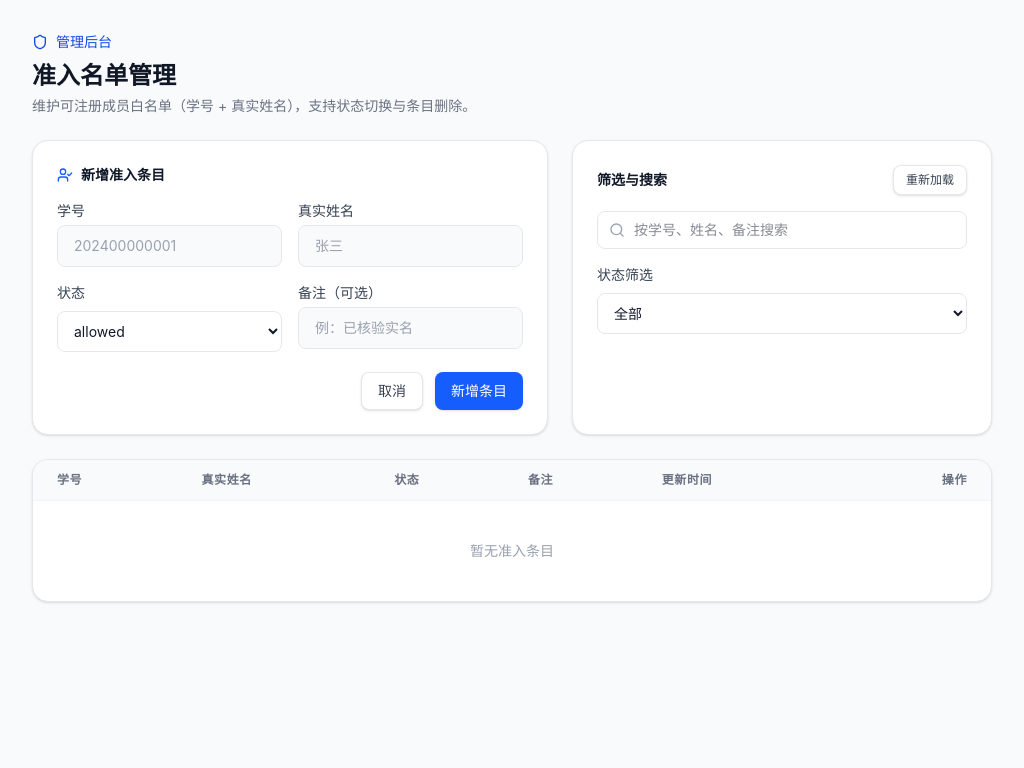
Test: AdminMemberEligibilityPage › creates a new entry from the admin form
The width and height of the screenshot is (1024, 768).
Type "202400000009" into the field labelled "学号" at (170, 246), box [57,225,282,267]
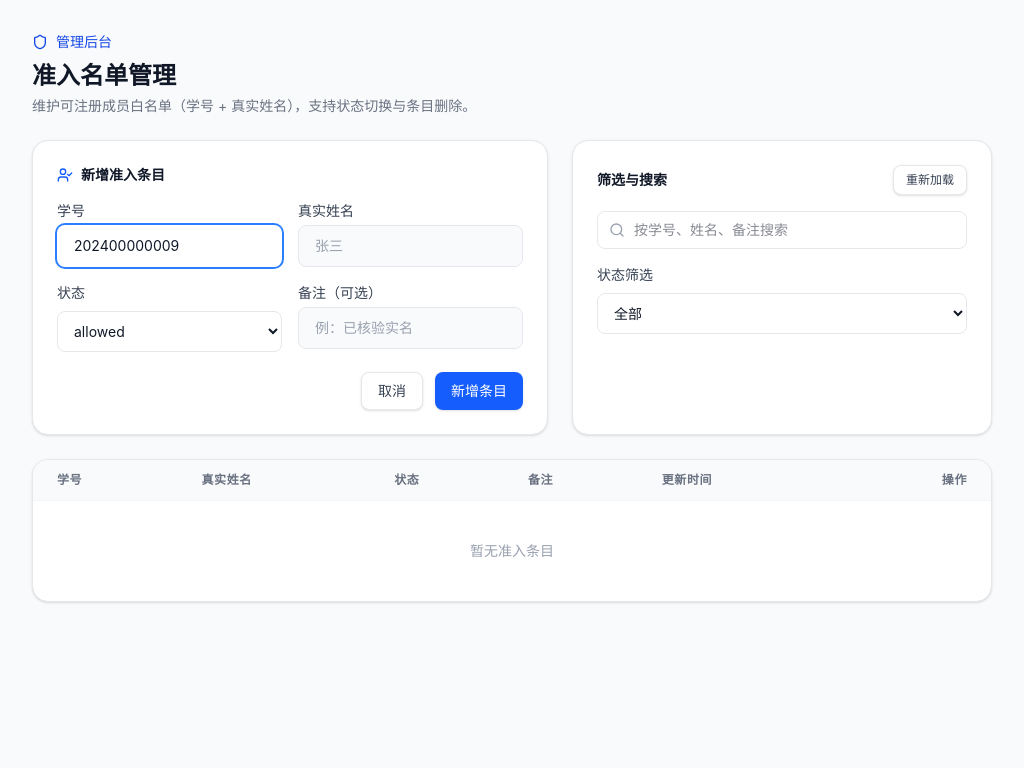
Type "Carol" into the field labelled "真实姓名" at (410, 246), box [298,225,523,267]
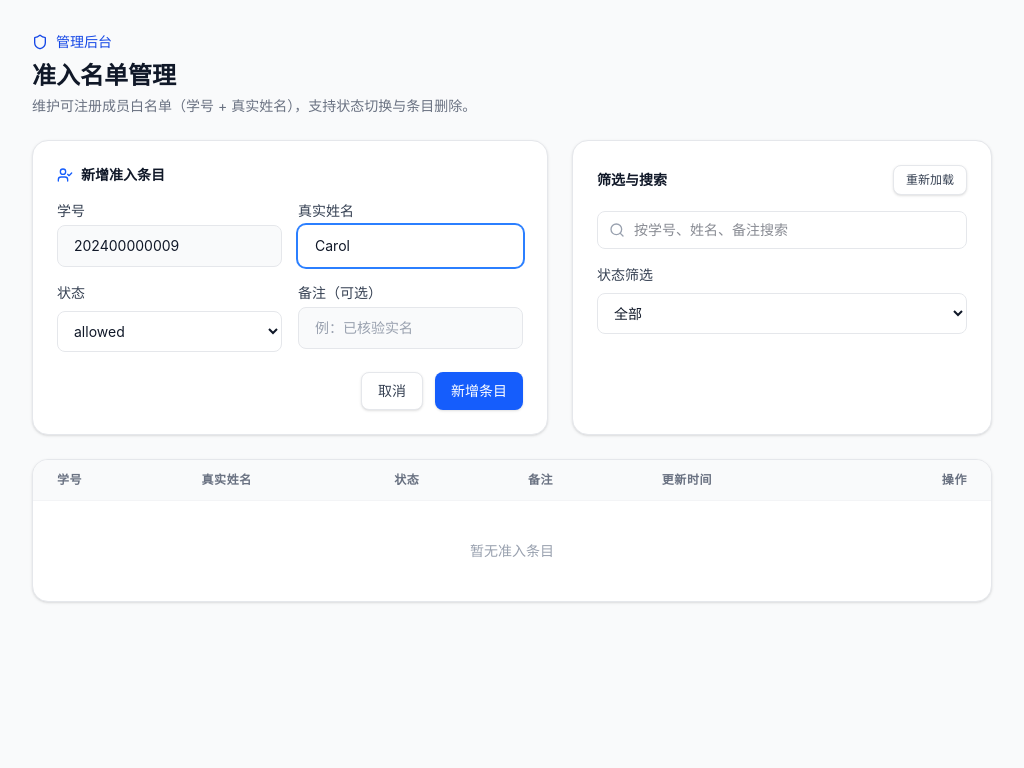
Type "new" into the field labelled "备注（可选）" at (410, 328), box [298,307,523,349]
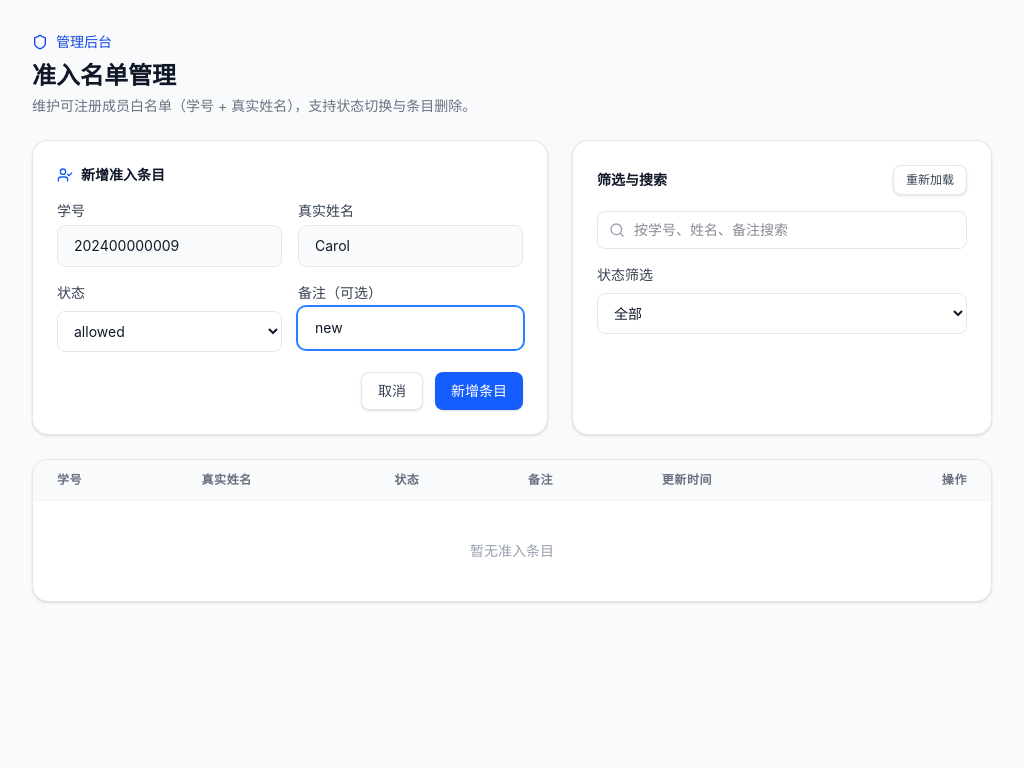
Click the button "新增条目" at (479, 391), box [435,372,523,410]
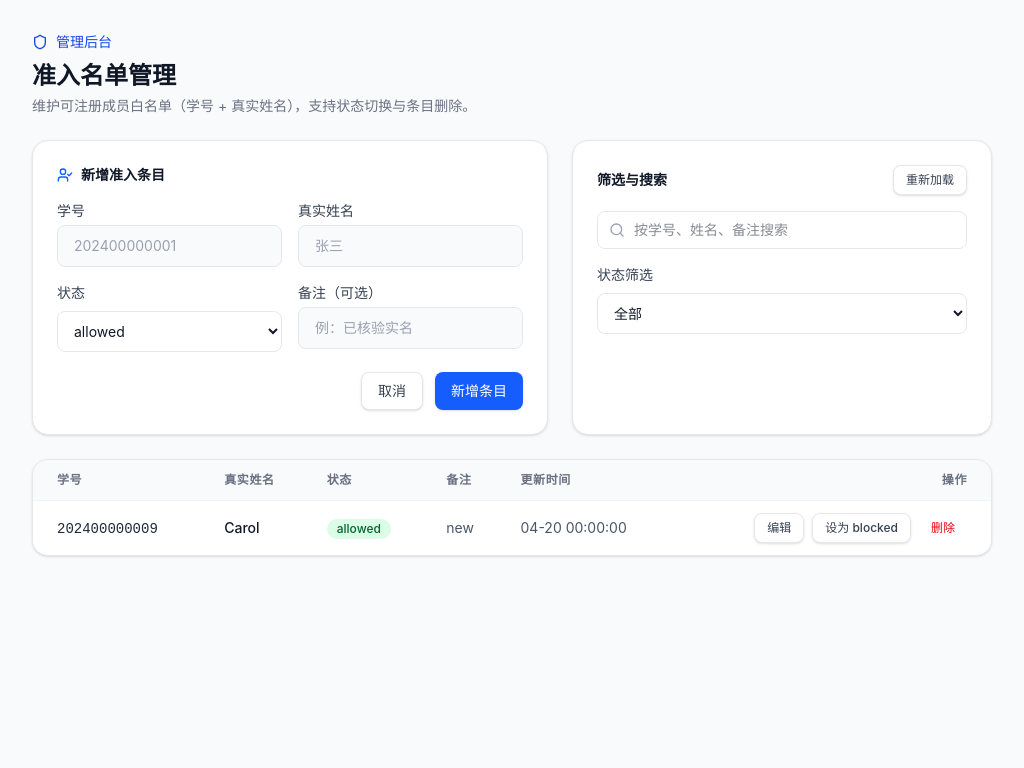
Result: the text "Carol" is shown at [224,519,260,536]
